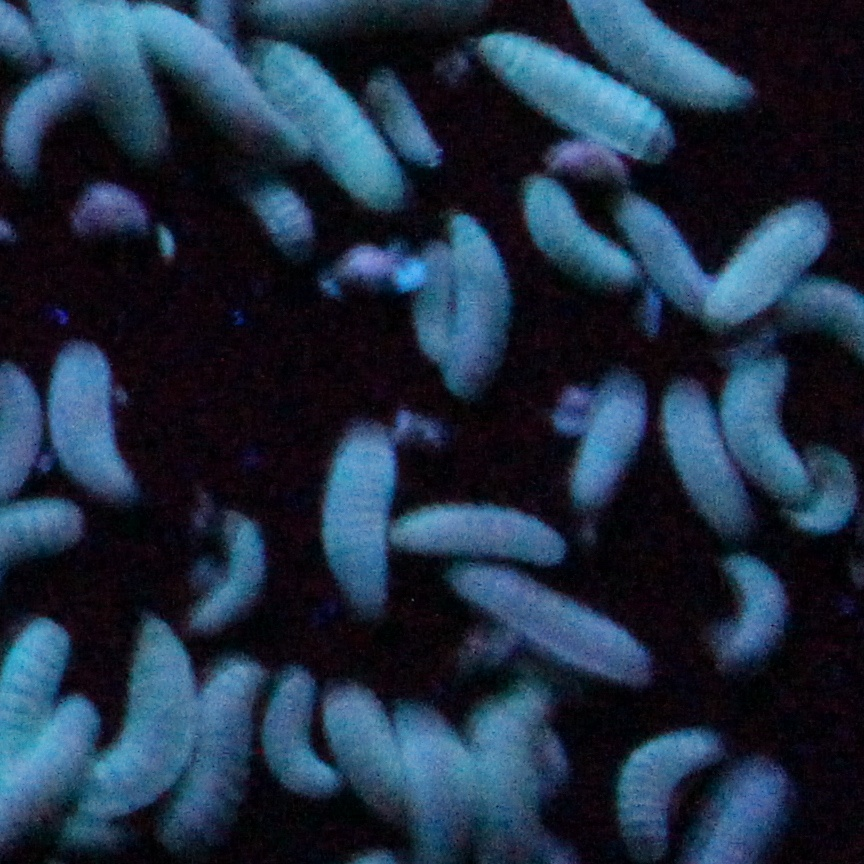larve: (233, 23, 422, 216), (442, 556, 656, 693), (467, 21, 678, 150), (82, 613, 199, 835), (40, 325, 156, 510), (700, 195, 847, 334), (316, 414, 407, 618), (506, 170, 643, 293), (656, 372, 754, 540), (385, 488, 572, 576), (556, 356, 648, 513), (259, 656, 347, 813), (441, 213, 510, 410), (707, 546, 792, 676), (190, 507, 269, 627)
